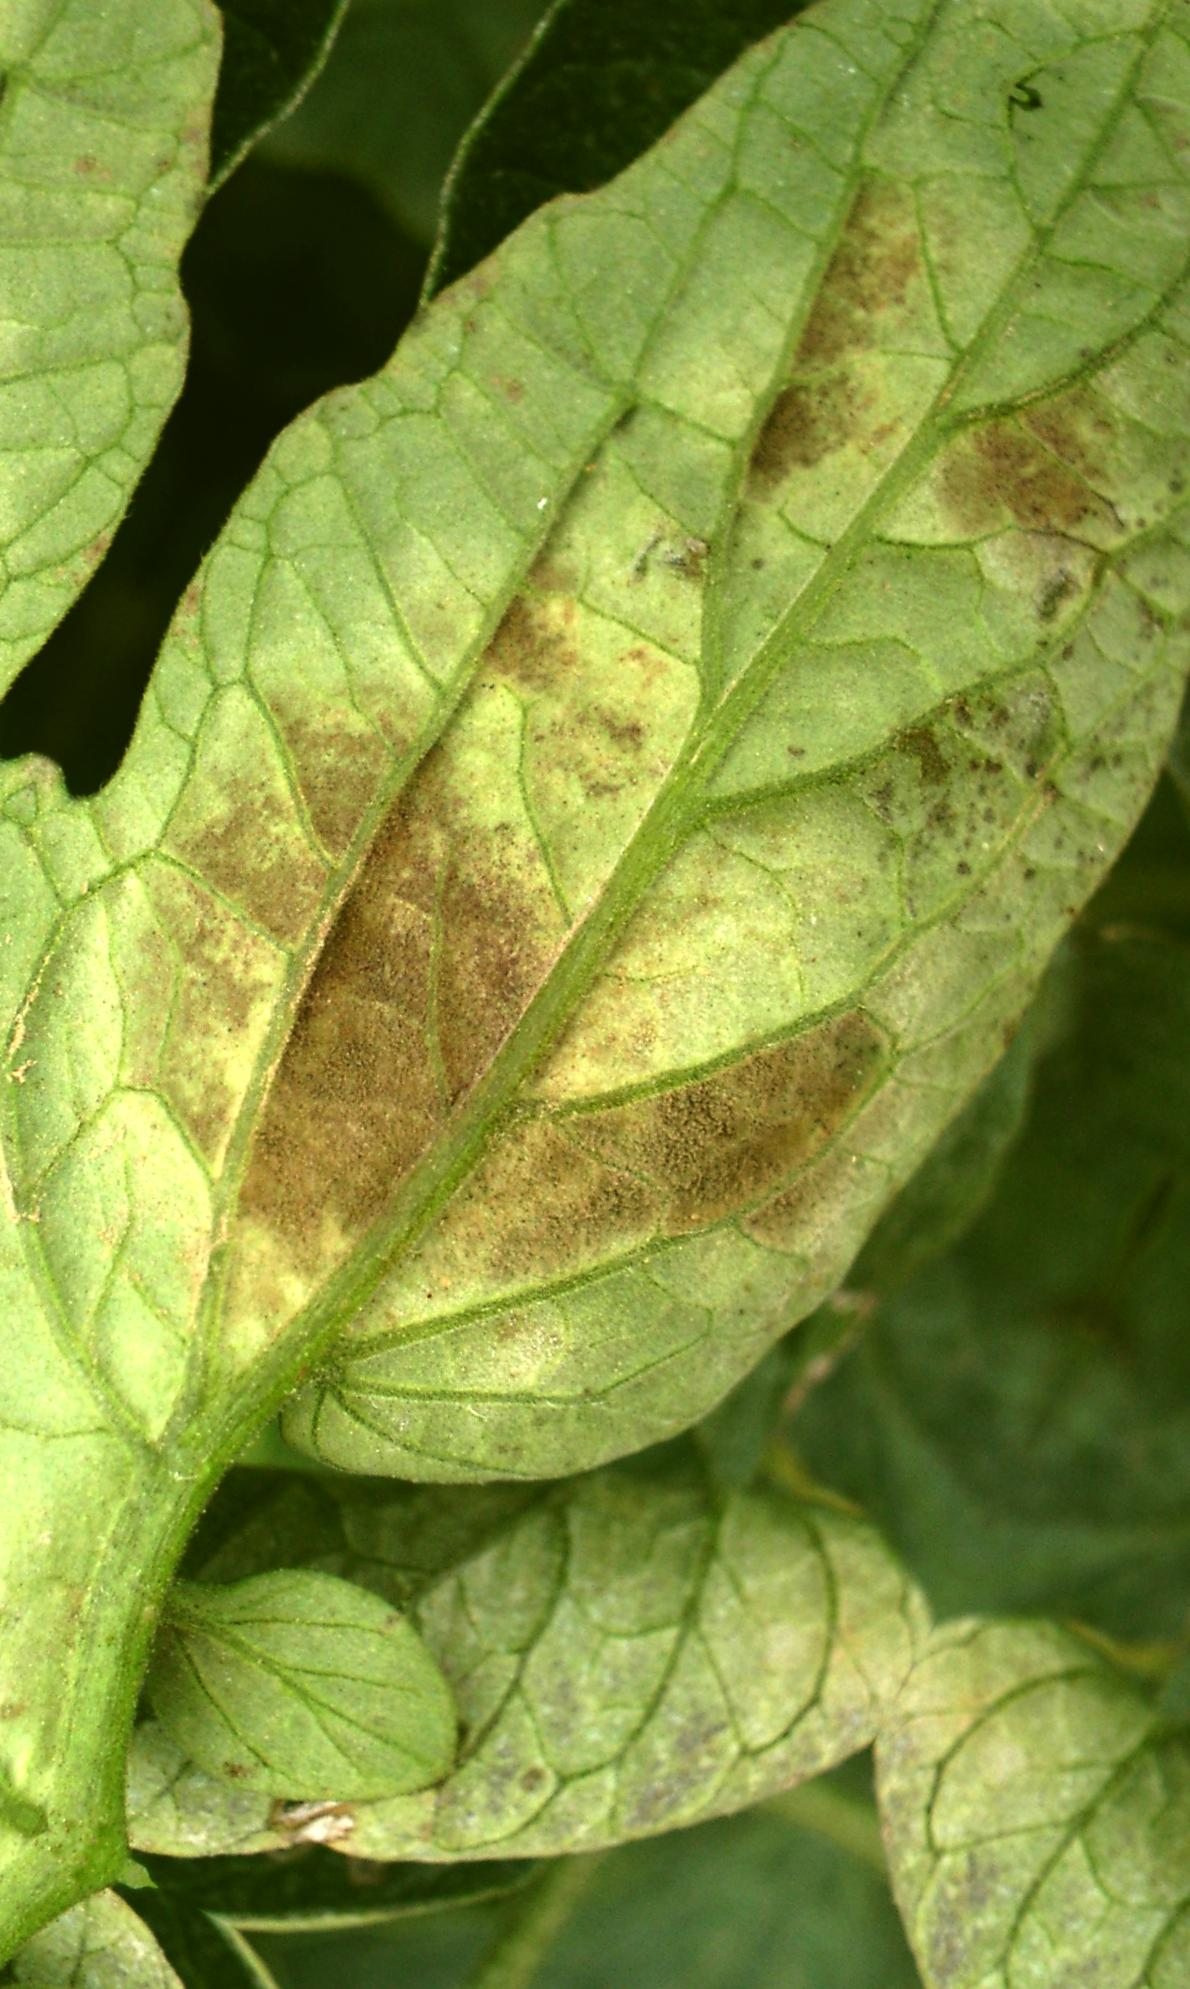Tomato mold leaf: (0, 0, 1190, 1989), (149, 1222, 998, 1989)
